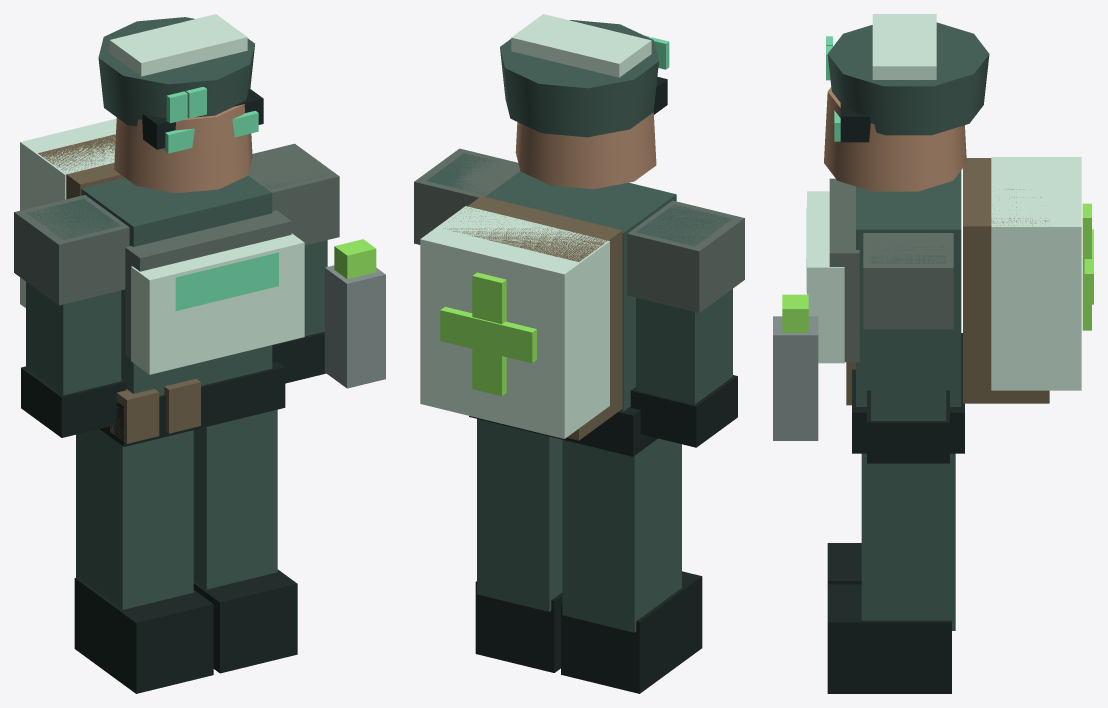
File: medic_l02.glb
3 views of the same model, side by side, from view 1: azimuth 30°, elevation 25°; view 2: azimuth 150°, elevation 25°; view 3: azimuth 270°, elevation 25° (orthographic).
Visible parts, largest first — view 1: trouser (×2), boot (×2), shoulder_plate (×2), reinforced_vest, sleeve (×2), body, face, helmet, aid_injector, glove (×2), protective_hood, medical_pack (+11 smaller); view 2: trouser (×2), medical_pack, boot (×2), shoulder_plate (×2), sleeve (×2), helmet, body, field_pack, face, protective_hood, glove, aid_cross_horizontal (+2 smaller); view 3: medical_pack, trouser, boot (×2), helmet, shoulder_plate, body, field_pack, face, sleeve, aid_injector, reinforced_vest, protective_hood (+7 smaller).
Part boxes in pixels (x1,y1,x2,y2): trouser (×2): (76,409,277,609); boot (×2): (74,569,297,693); shoulder_plate (×2): (14,143,339,305); reinforced_vest: (131,233,304,374); sleeve (×2): (26,174,327,395); body: (81,175,272,395); face: (114,104,252,193); helmet: (98,17,254,126); aid_injector: (324,265,385,388); glove (×2): (21,331,325,437); protective_hood: (109,14,247,76); medical_pack: (20,118,116,307); trouser (×2): (477,419,681,632); medical_pack: (420,206,609,438); boot (×2): (475,571,702,693); shoulder_plate (×2): (414,148,744,312); sleeve (×2): (426,153,732,404); helmet: (500,20,658,137); body: (485,171,676,411); field_pack: (443,196,622,440); face: (515,112,656,189); protective_hood: (511,14,651,77); glove: (630,375,737,447); aid_cross_horizontal: (440,306,536,363); medical_pack: (991,157,1081,390); trouser: (861,453,955,630); boot (×2): (827,543,951,693); helmet: (827,22,989,135); shoulder_plate: (863,233,953,329); body: (856,171,961,406); field_pack: (963,158,1049,403); face: (824,87,966,191); sleeve: (871,245,946,420); aid_injector: (773,316,818,440); reinforced_vest: (807,191,844,363); protective_hood: (872,14,936,79).
Bounding box in the file's own units: 0.875 × 1.8 × 0.8525.
